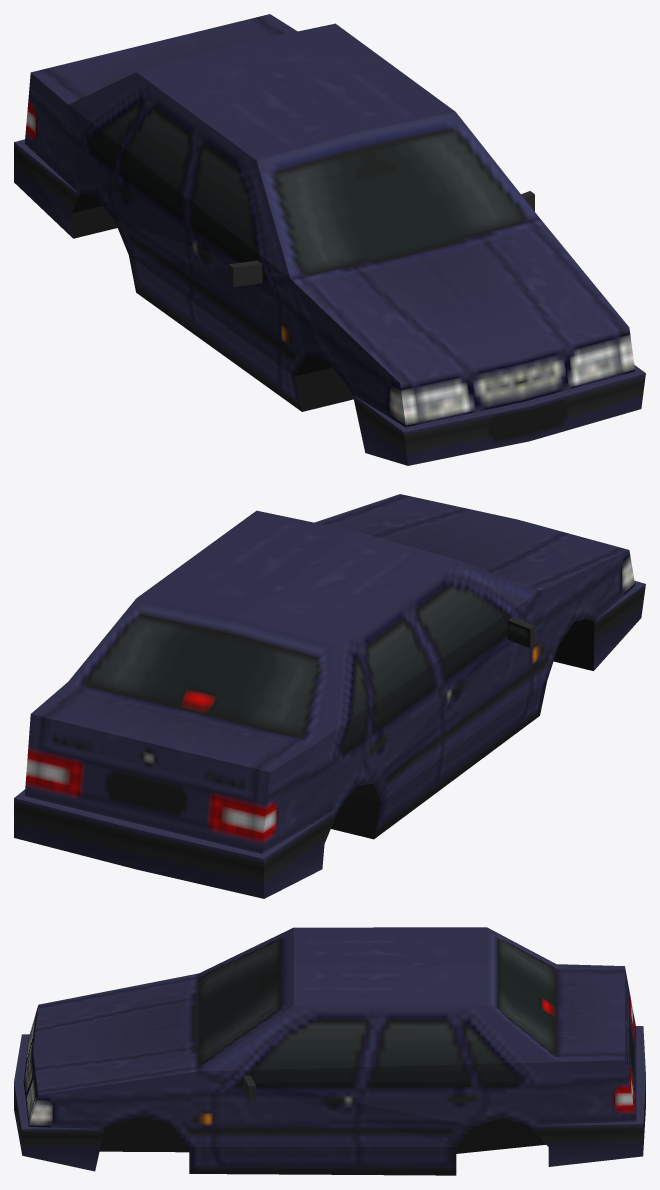
Rendered from Car2.obj.
3 renders of one model, top to bottom at view 1: azimuth 30°, elevation 25°; view 2: azimuth 150°, elevation 25°; view 3: azimuth 270°, elevation 25°, orthographic. The views are drawn at different scales.
Visible parts, largest first — view 1: Car2; view 2: Car2; view 3: Car2.
Boxes of the visible parts, left/top/right/bottom form: Car2: left=14, top=14, right=645, bottom=465; Car2: left=14, top=494, right=645, bottom=898; Car2: left=14, top=927, right=645, bottom=1175.
Size of the model in its own units: 2.9 by 1.88 by 6.53.
Materials: 1 (1 with a texture image).
